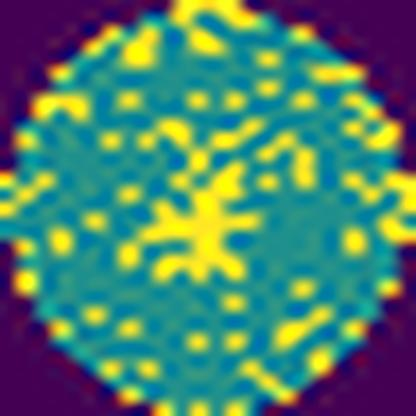Center: (132, 156, 263, 286)
